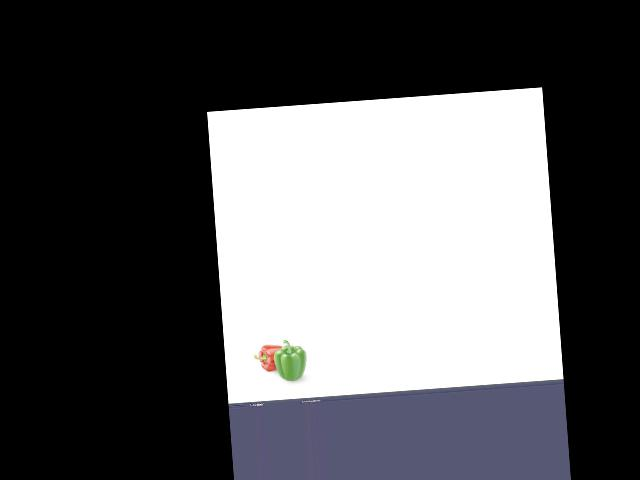bell_pepper: (253, 340, 285, 371)
